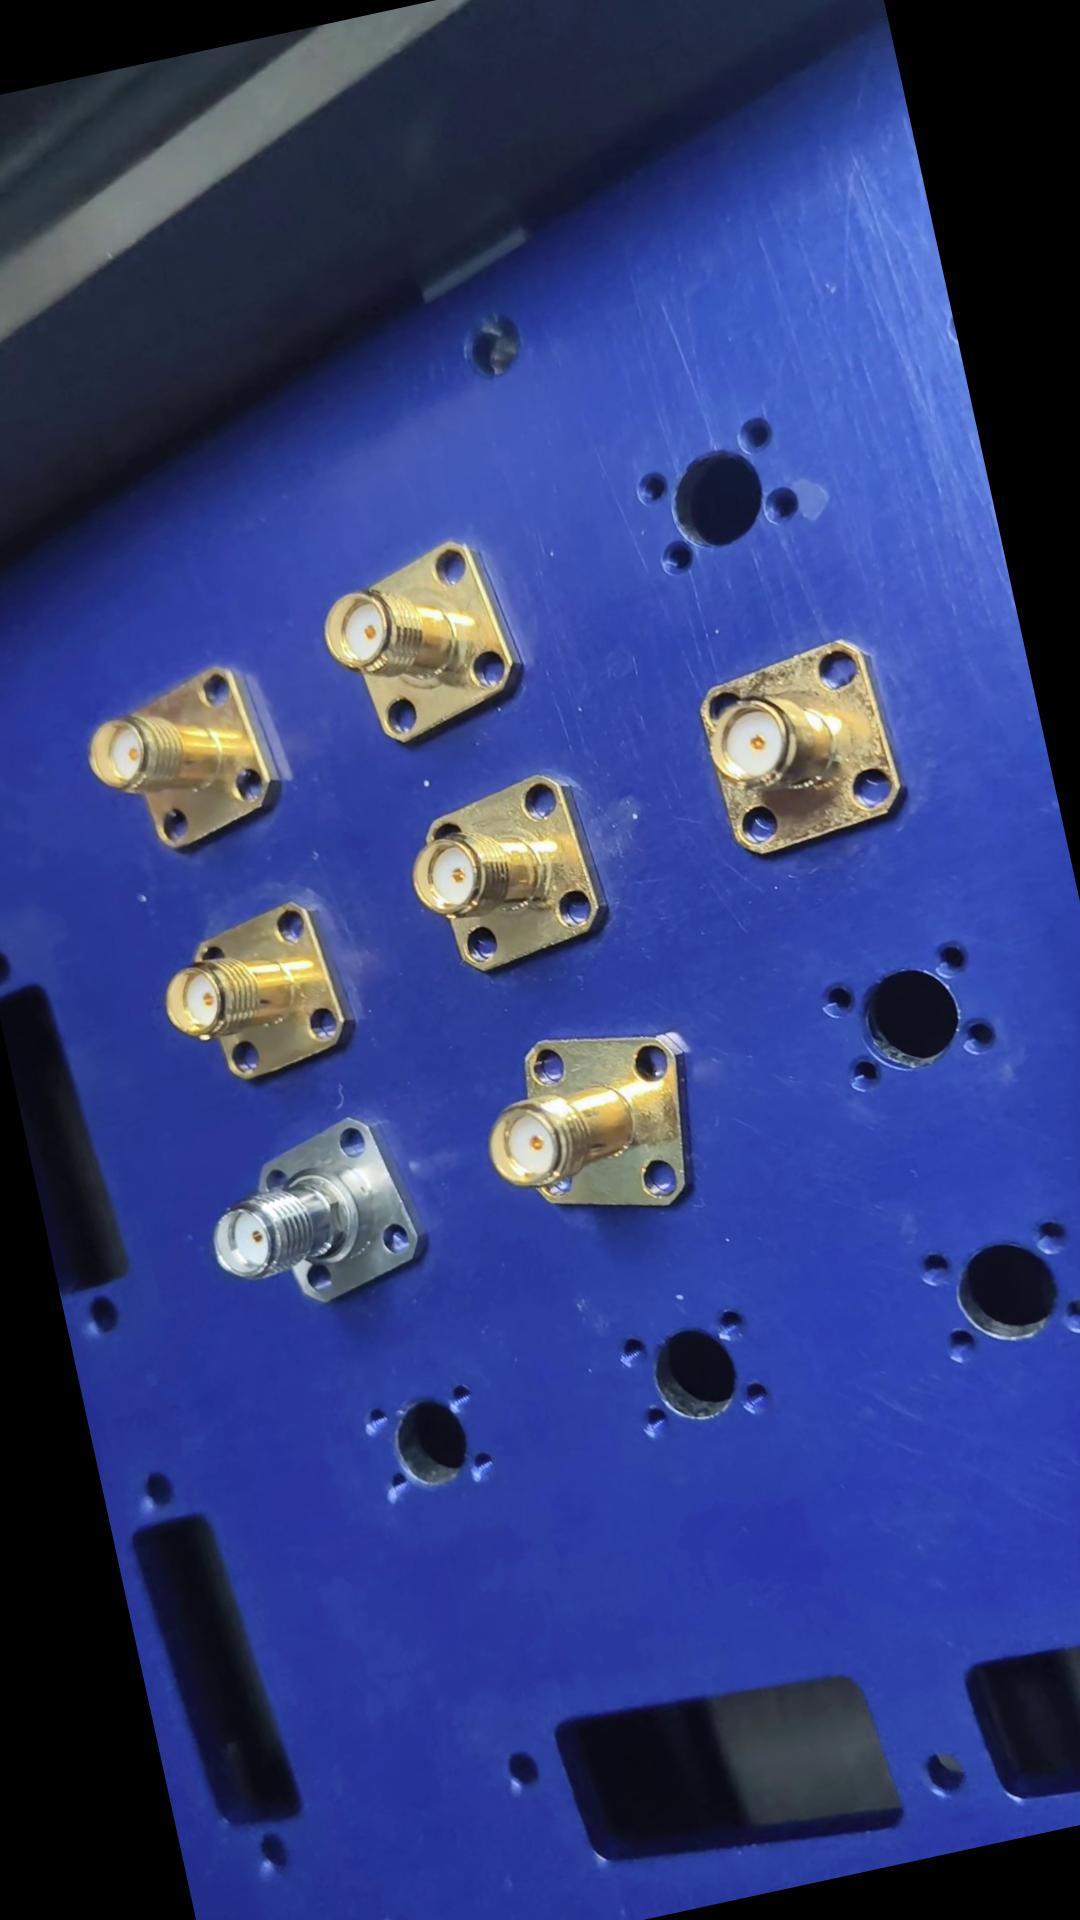SMA: (465, 1004, 724, 1249), (314, 525, 545, 758), (690, 628, 919, 860), (396, 761, 625, 984), (195, 1106, 436, 1317), (78, 658, 299, 869), (152, 894, 368, 1091)
